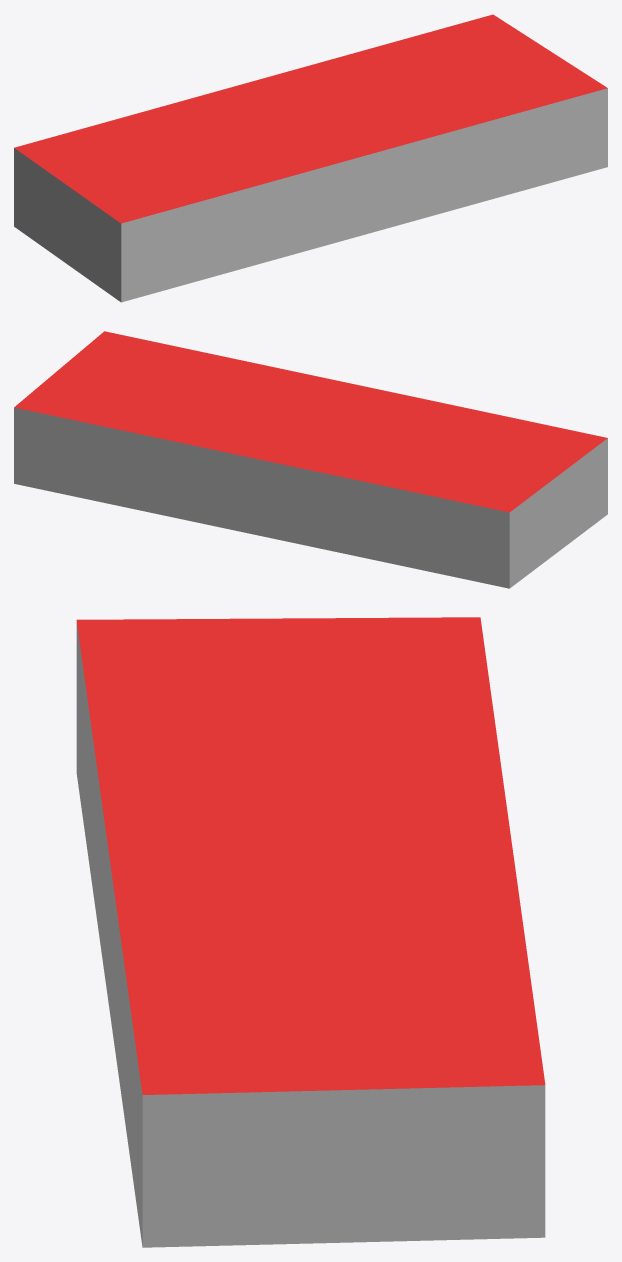
The model's file is DEBE3D04YY50000Ixt.dae.
3 views of the same model, one above another, from view 1: azimuth 30°, elevation 25°; view 2: azimuth 150°, elevation 25°; view 3: azimuth 270°, elevation 25° (orthographic). The views are drawn at different scales.
Bounding box in the file's own units: 17.5 × 7.26 × 2.61.
